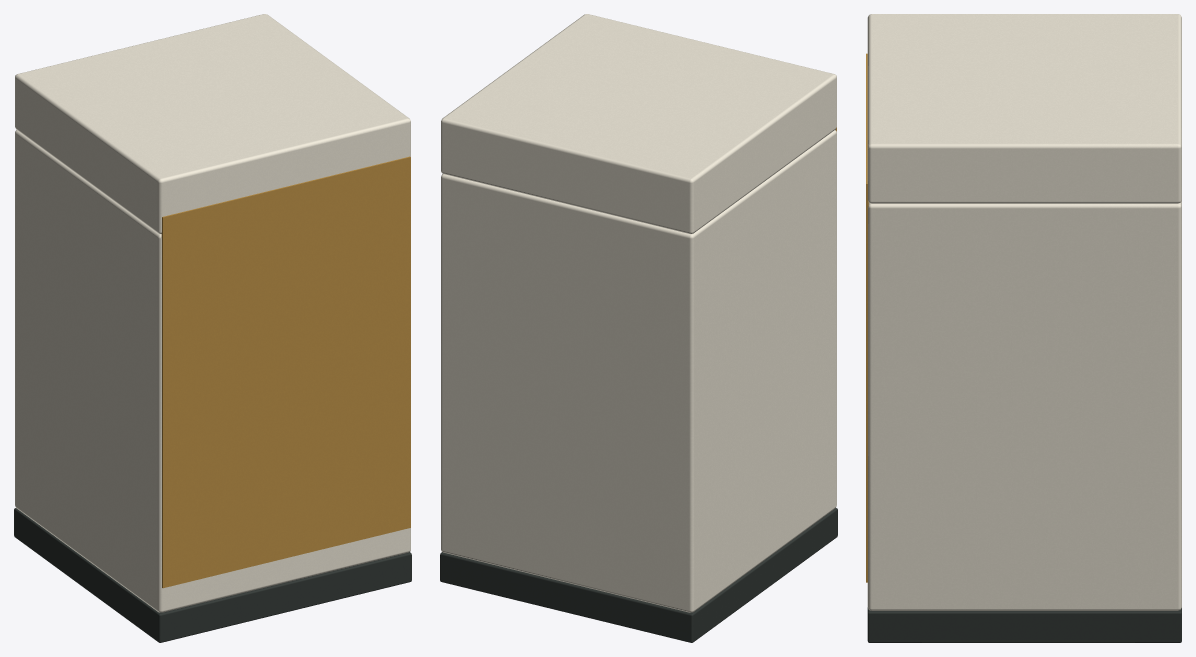
Rendered from pillar.glb.
The picture shows the model from 3 angles, left to right: view 1: azimuth 30°, elevation 25°; view 2: azimuth 150°, elevation 25°; view 3: azimuth 270°, elevation 25°; orthographic projection. The views are drawn at different scales.
Parts seen in each view (by area): view 1: pillar_accent, wall_body, wall_band, wall_plinth; view 2: wall_body, wall_band, wall_plinth; view 3: wall_body, wall_band, wall_plinth, pillar_accent.
Part boxes in pixels (<box>): pillar_accent: <box>161,156,410,588</box>; wall_body: <box>15,130,410,612</box>; wall_band: <box>15,14,410,233</box>; wall_plinth: <box>14,508,411,642</box>; wall_body: <box>441,130,836,612</box>; wall_band: <box>441,14,836,233</box>; wall_plinth: <box>440,508,837,642</box>; wall_body: <box>867,200,1181,610</box>; wall_band: <box>867,14,1181,203</box>; wall_plinth: <box>867,607,1181,642</box>; pillar_accent: <box>866,53,868,582</box>.
Size of the model in its own units: 2 by 3.5 by 2.01.
Materials: 3 (3 with a texture image).
